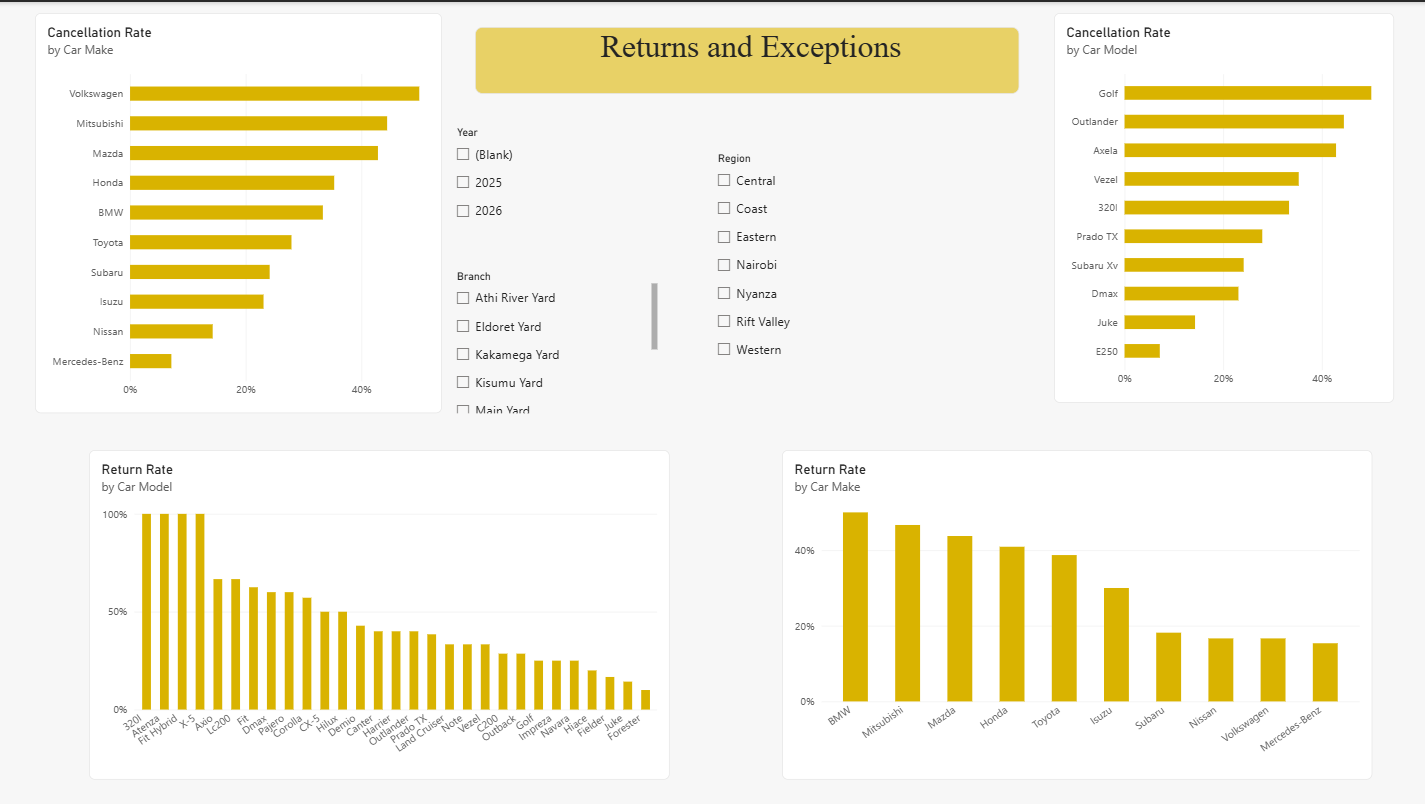

Layout of this report page (visuals, bound fields, positions):
{"tool":"powerbi","page":{"name":"Page 6","canvas":[1920,1080],"ordinal":5},"visuals":[{"type":"clusteredColumnChart","fields":{"Category":["Vehicles_dmTable.Car Make"],"Y":["Jcars_Measures.Return Rate"]},"box":[1054.6,603.7,795.1,443.6],"z":0},{"type":"clusteredColumnChart","fields":{"Category":["Sales_ftTable.Car Model"],"Y":["Jcars_Measures.Return Rate"]},"box":[121.5,603.7,782.2,443.6],"z":1},{"type":"clusteredBarChart","fields":{"Category":["Vehicles_dmTable.Car Make"],"Y":["Jcars_Measures.Cancellation Rate"]},"box":[47.9,14.7,548.5,539.3],"z":2},{"type":"clusteredBarChart","fields":{"Category":["Vehicles_dmTable.Car Model"],"Y":["Jcars_Measures.Cancellation Rate"]},"box":[1420.9,14.7,458.3,524.5],"z":3},{"type":"textbox","box":[640.5,33.1,732.5,90.2],"z":4},{"type":"slicer","fields":{"Values":["Date_dmTable.Year"]},"box":[609.2,167.5,208,165.6],"z":5},{"type":"slicer","fields":{"Values":["Branch_dmTable.Branch"]},"box":[609.2,360.7,277.9,193.3],"z":6},{"type":"slicer","fields":{"Values":["Region_dmTable.Region"]},"box":[960.7,202.5,254,314.7],"z":7}]}

Visuals, with their boxes in screenshot pixels (x1, y1, x2, y2), scaled from the page's 1920x1080 canvas onto the 1425x804 screenshot:
clusteredColumnChart - Vehicles_dmTable.Car Make x Jcars_Measures.Return Rate: (783,449,1373,780)
clusteredColumnChart - Sales_ftTable.Car Model x Jcars_Measures.Return Rate: (90,449,671,780)
clusteredBarChart - Vehicles_dmTable.Car Make x Jcars_Measures.Cancellation Rate: (36,11,443,412)
clusteredBarChart - Vehicles_dmTable.Car Model x Jcars_Measures.Cancellation Rate: (1055,11,1395,401)
textbox: (475,25,1019,92)
slicer - Date_dmTable.Year: (452,125,607,248)
slicer - Branch_dmTable.Branch: (452,269,658,412)
slicer - Region_dmTable.Region: (713,151,902,385)
